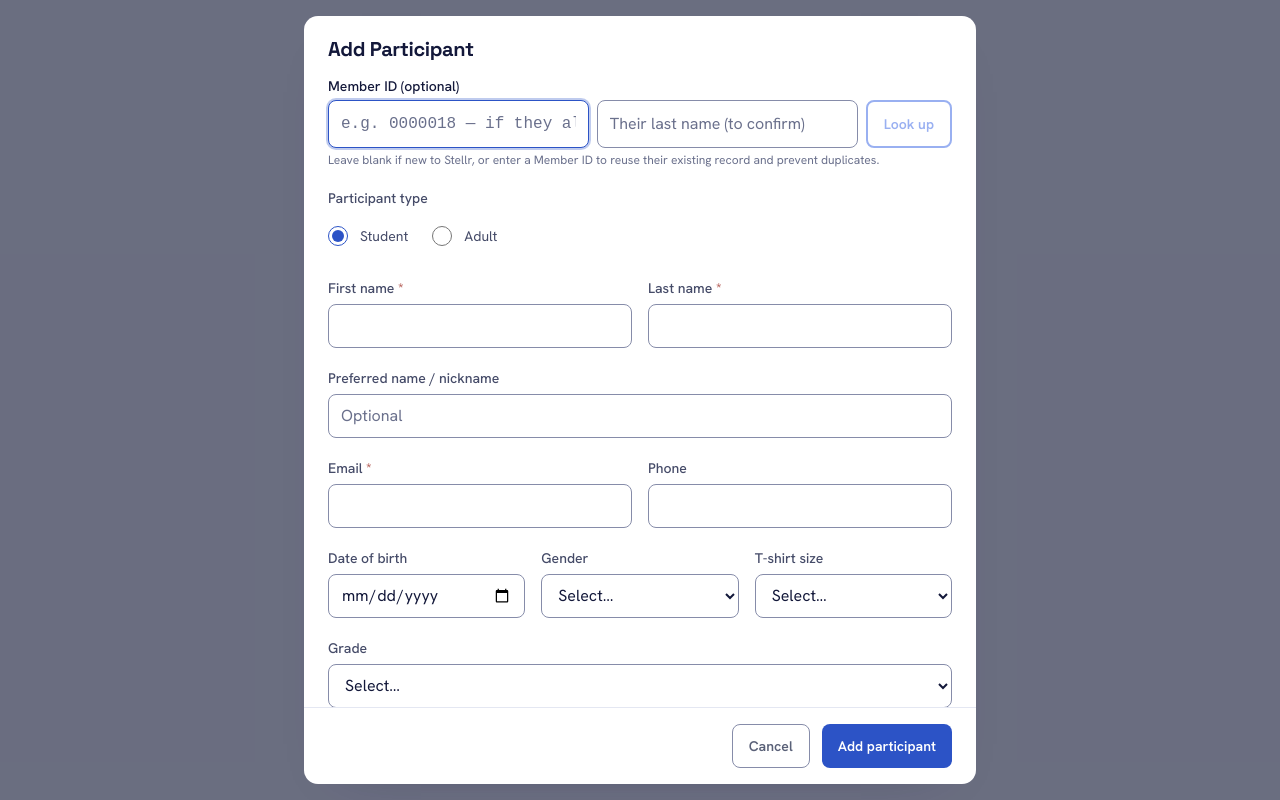
Scenario: ParticipantForm › on an empty save, says what is missing under each field and focuses the first
Click the button "Add participant".
click(887, 746)  # box 822,724 -> 952,768
(page scrolled)
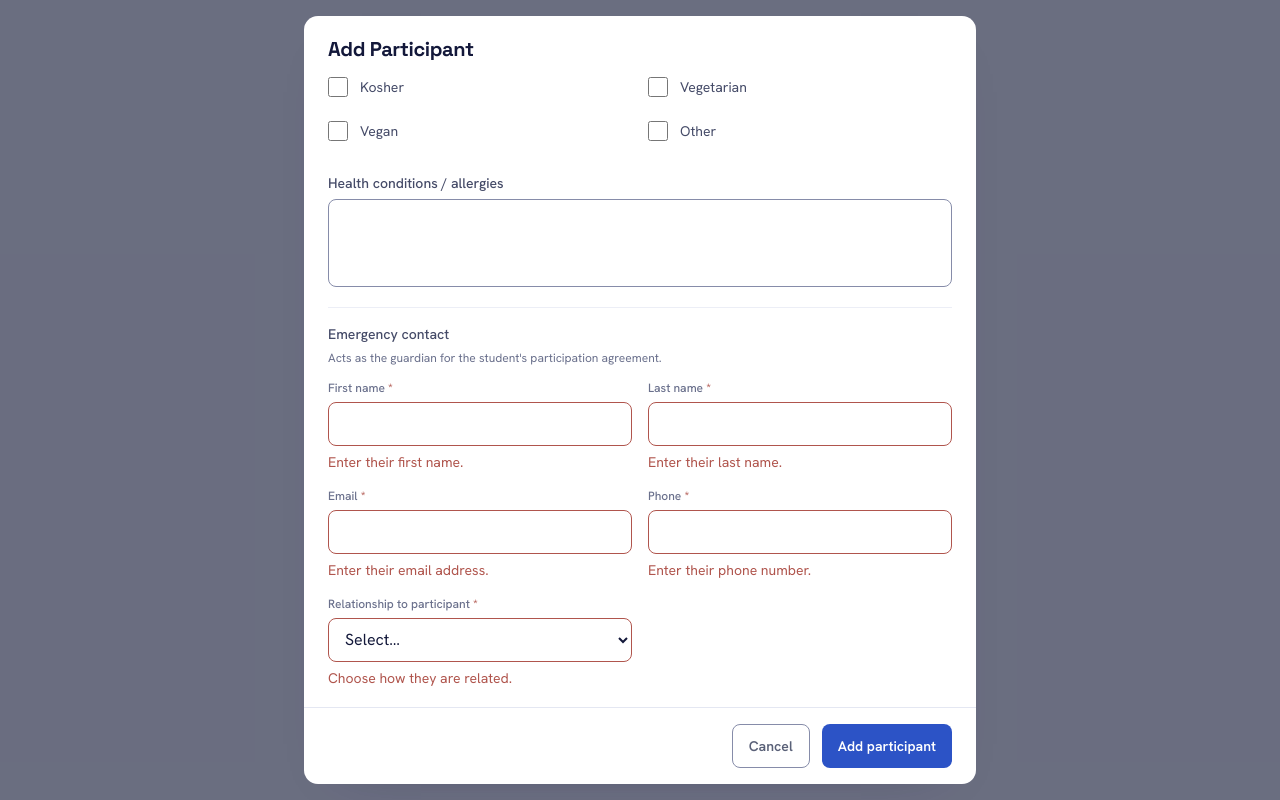
expect the text "Choose how they are related." is shown: met, box 328,668 -> 512,686
